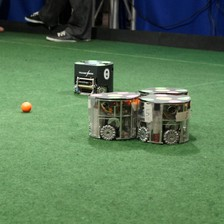ball: (19, 99, 32, 113)
robot: (136, 92, 192, 146), (86, 89, 141, 143), (71, 55, 115, 96)
